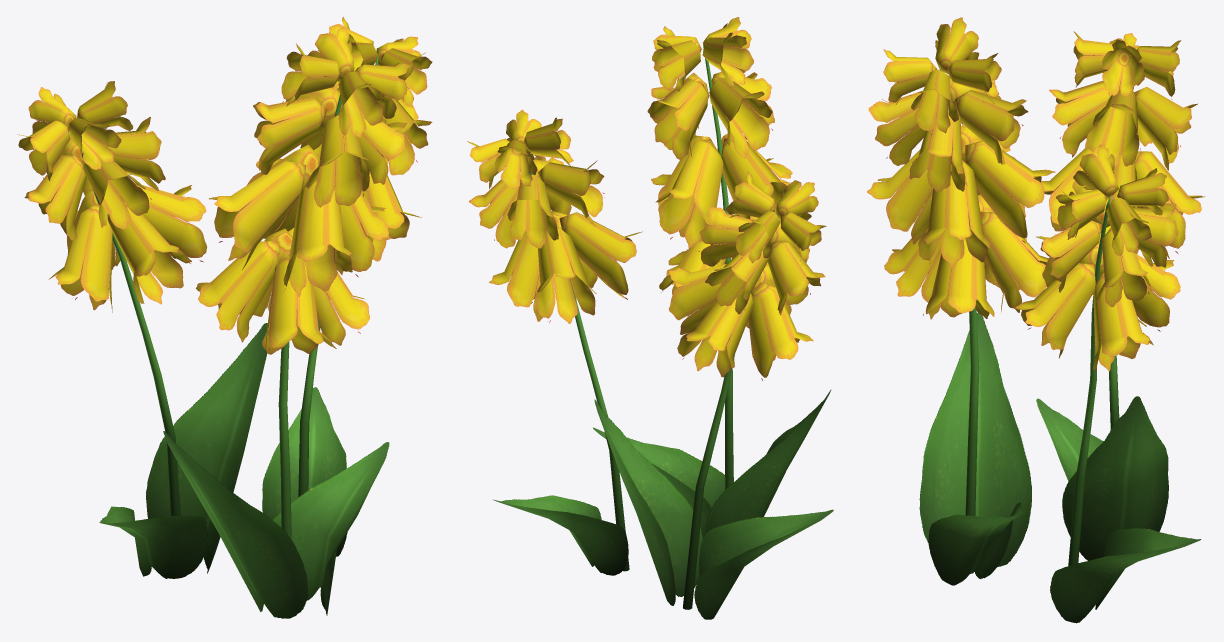
The model's file is Flower_4_Group.glb.
3 views of the same model, side by side, from view 1: azimuth 30°, elevation 25°; view 2: azimuth 150°, elevation 25°; view 3: azimuth 270°, elevation 25° (orthographic). The views are drawn at different scales.
Parts seen in each view (by area): view 1: Flower_4_Group; view 2: Flower_4_Group; view 3: Flower_4_Group.
Boxes of the visible parts, left/top/right/bottom form: Flower_4_Group: left=17, top=17, right=432, bottom=618; Flower_4_Group: left=467, top=17, right=833, bottom=619; Flower_4_Group: left=867, top=17, right=1205, bottom=623.
Bounding box in the file's own units: 1.78 × 2.49 × 1.37.
Materials: 2 (2 with a texture image).
